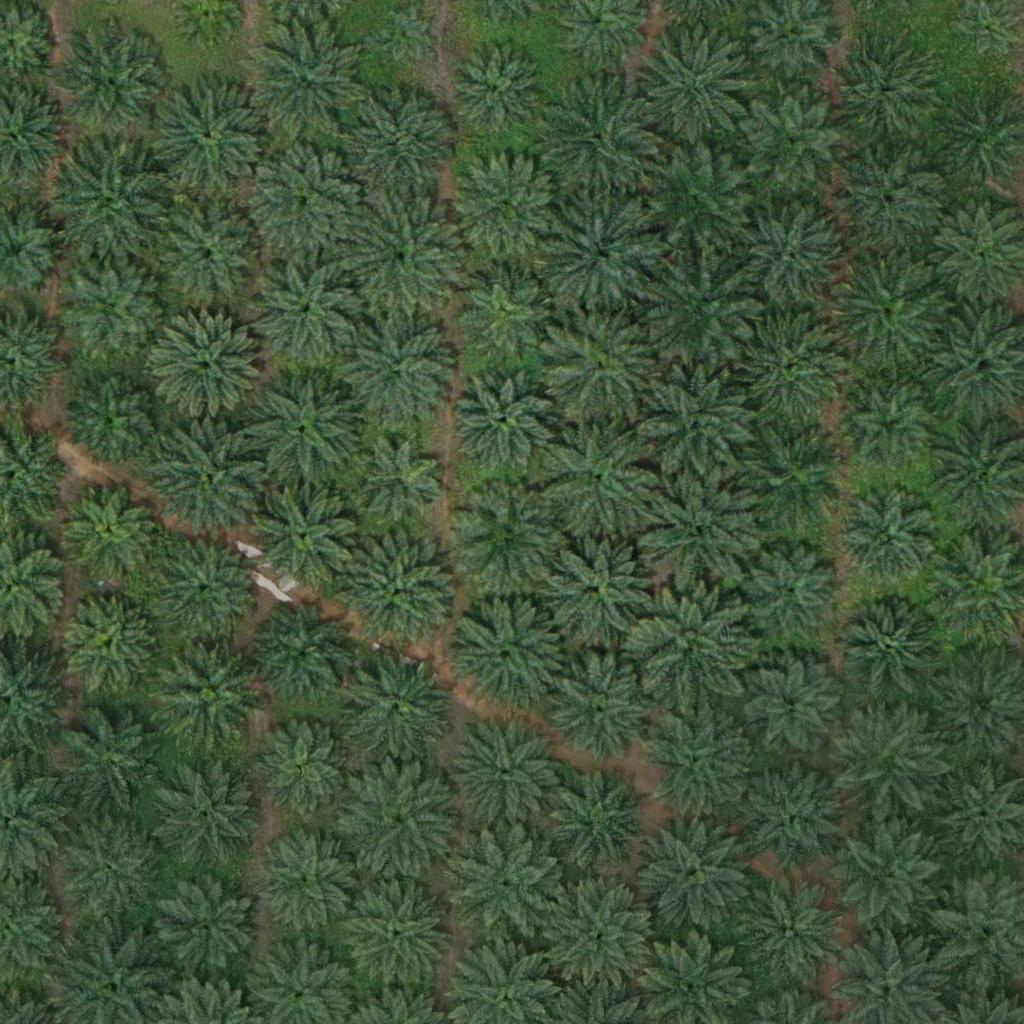Kelapa_Sawit: (637, 139, 750, 253), (543, 75, 656, 189), (644, 249, 757, 363), (56, 701, 169, 815), (543, 197, 656, 310), (246, 21, 359, 134), (250, 144, 363, 257), (152, 81, 265, 194), (152, 311, 265, 424), (245, 256, 358, 369), (248, 370, 361, 483), (249, 475, 362, 588), (343, 535, 456, 648), (453, 594, 566, 707), (544, 310, 657, 423), (639, 369, 752, 482), (641, 475, 754, 588), (635, 590, 748, 703), (833, 248, 946, 361), (834, 821, 947, 934), (732, 870, 845, 983), (548, 881, 661, 994), (449, 716, 562, 829), (453, 832, 566, 945), (340, 651, 453, 764), (345, 765, 458, 878), (53, 814, 166, 927), (732, 200, 844, 314), (150, 636, 262, 750), (740, 308, 852, 422), (346, 879, 458, 993), (149, 760, 261, 874), (831, 145, 943, 258), (639, 25, 751, 138), (450, 152, 562, 265), (344, 86, 456, 199), (346, 199, 458, 312), (152, 200, 264, 313), (56, 27, 168, 140), (55, 149, 167, 262), (150, 424, 262, 537), (148, 534, 260, 647), (340, 317, 452, 430), (452, 480, 564, 593), (546, 422, 658, 535), (544, 528, 656, 641), (737, 423, 849, 536), (829, 703, 941, 816), (641, 707, 753, 820), (638, 818, 750, 931), (548, 652, 660, 765), (831, 43, 931, 144), (744, 90, 844, 191), (66, 257, 166, 358), (67, 367, 167, 468), (251, 602, 351, 703), (351, 435, 451, 536), (455, 257, 555, 358), (451, 368, 551, 469), (741, 540, 841, 641), (743, 659, 843, 760), (843, 601, 943, 702), (743, 763, 843, 864), (553, 769, 653, 870), (446, 38, 546, 138), (65, 482, 165, 582), (61, 594, 161, 694), (838, 488, 938, 588), (252, 721, 352, 821), (257, 835, 357, 935), (160, 879, 260, 979), (844, 385, 932, 473), (373, 2, 435, 65)
